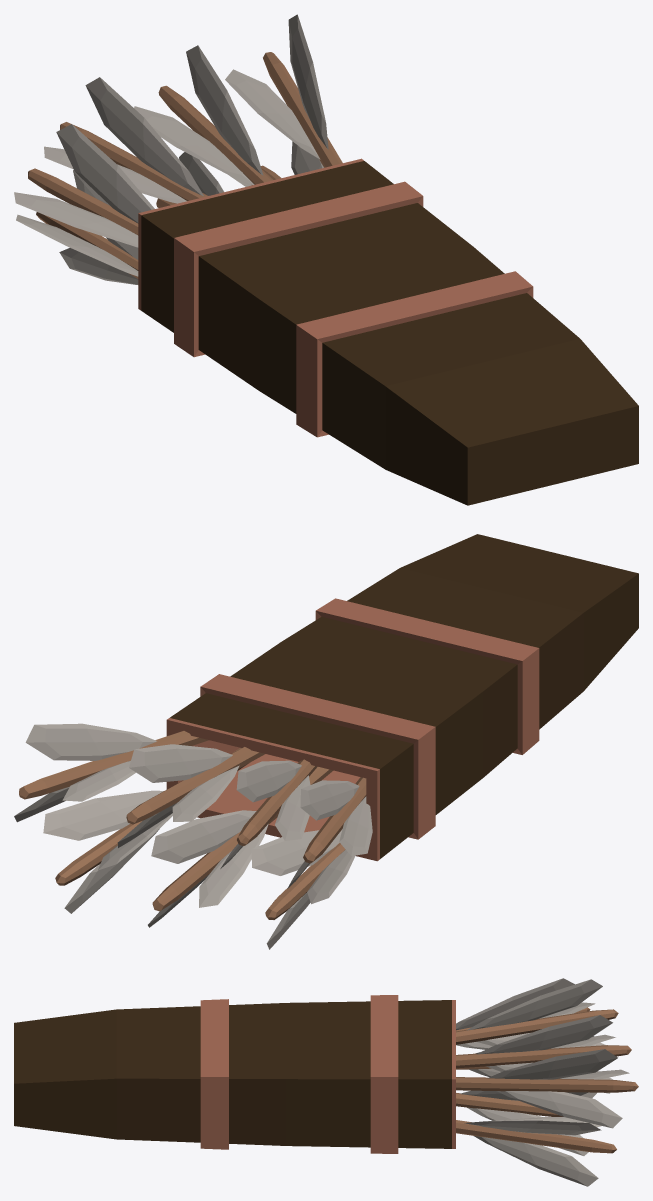
The model's file is kolchan.fbx.
3 views of the same model, one above another, from view 1: azimuth 30°, elevation 25°; view 2: azimuth 150°, elevation 25°; view 3: azimuth 270°, elevation 25° (orthographic). The views are drawn at different scales.
Parts seen in each view (by area): view 1: Cube, Cube.001, Cube.002, Cube.006, Cube.005, Cube.007, Cube.003, Cube.004; view 2: Cube, Cube.005, Cube.003, Cube.002, Cube.004, Cube.007, Cube.006, Cube.001; view 3: Cube, Cube.005, Cube.004, Cube.002, Cube.006, Cube.003, Cube.001, Cube.007.
Part boxes in pixels (box(x1,y1,x2,y2)): Cube: box(138, 158, 638, 505); Cube.001: box(14, 124, 154, 247); Cube.002: box(134, 45, 273, 185); Cube.006: box(44, 77, 207, 203); Cube.005: box(225, 14, 342, 167); Cube.007: box(16, 170, 138, 284); Cube.003: box(156, 152, 223, 207); Cube.004: box(229, 141, 323, 186); Cube: box(166, 534, 638, 861); Cube.005: box(14, 723, 208, 822); Cube.003: box(148, 767, 333, 927); Cube.002: box(117, 744, 264, 847); Cube.004: box(43, 748, 248, 913); Cube.007: box(251, 829, 355, 949); Cube.006: box(220, 759, 317, 868); Cube.001: box(287, 777, 372, 888); Cube: box(14, 995, 455, 1153); Cube.005: box(456, 1049, 638, 1128); Cube.004: box(456, 1117, 616, 1186); Cube.002: box(456, 1015, 631, 1093); Cube.006: box(456, 979, 618, 1046); Cube.003: box(456, 1090, 588, 1155); Cube.001: box(456, 978, 590, 1049); Cube.007: box(456, 1036, 596, 1098).
Bounding box in the file's own units: 264 × 155 × 593.
